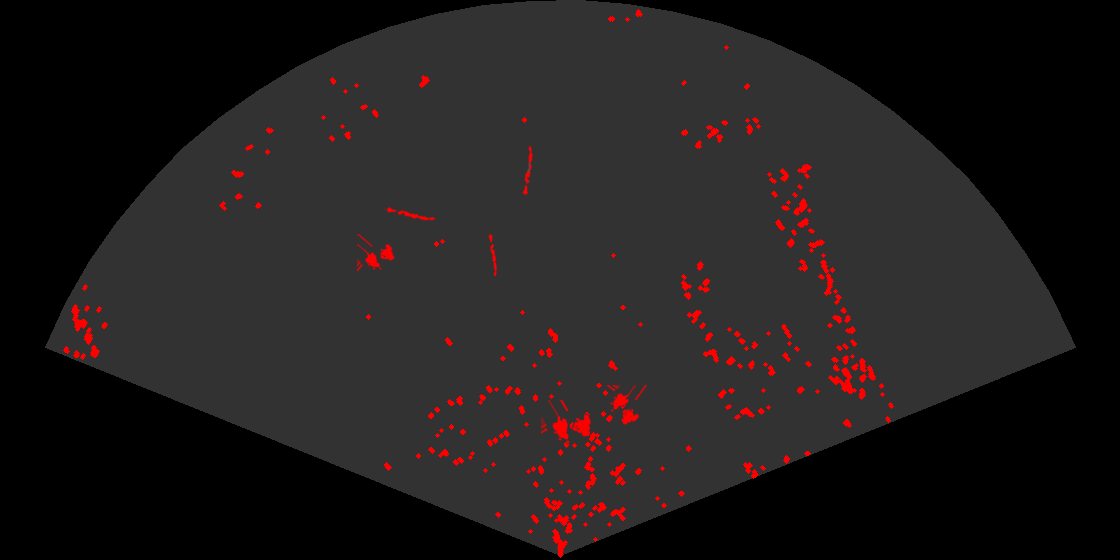cage: (541, 400, 593, 445), (605, 385, 649, 426), (357, 234, 396, 274)
chain: (384, 206, 436, 222), (521, 144, 534, 196), (487, 233, 499, 277)
